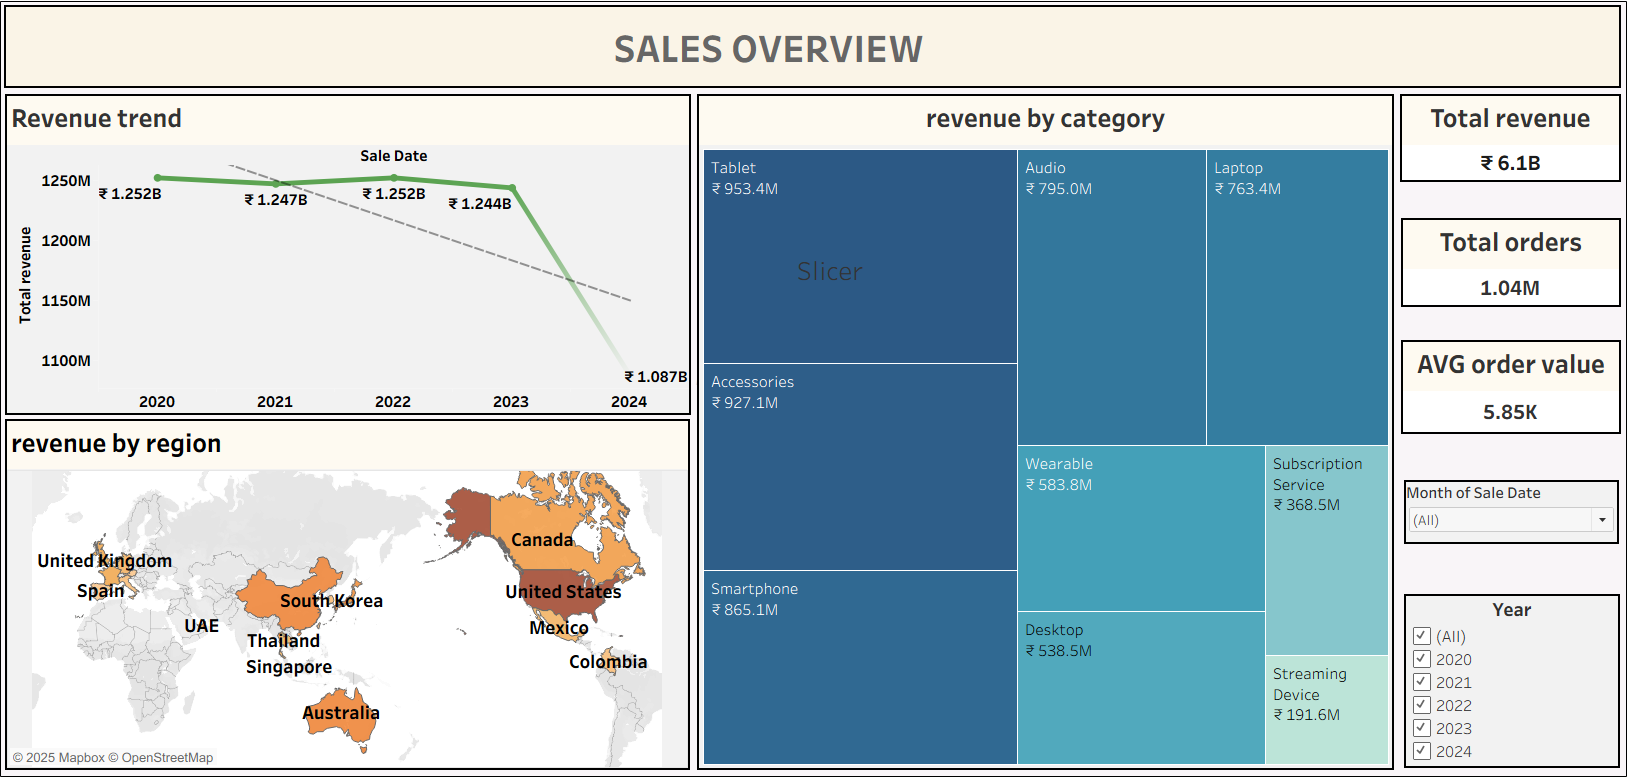

The dashboard page shown, as its layout file describes it:
{"tool":"tableau","page":{"name":"Overview","canvas":[1000,1000],"units":"permille","ordinal":2},"visuals":[{"type":"text","box":[375.4,20.4,193.8,85.4]},{"type":"worksheet","title":"Revenue trend","mark":"Automatic","rows":["Calculation_1114640926342770689"],"cols":["sale_date"],"box":[6.7,123.6,418,408.9]},{"type":"worksheet","title":"revenue by category","mark":"Automatic","box":[428.4,123.6,424.7,861.1]},{"type":"worksheet","title":"Total revenue KPI","mark":"Automatic","box":[856.8,123.6,134.7,112.1]},{"type":"worksheet","title":"Total orders kpi","mark":"Automatic","box":[857.4,281.5,134.1,113.4]},{"type":"worksheet","title":"Slicer","mark":"Automatic","box":[486.9,321,333.3,332.5]},{"type":"worksheet","title":"AVG order value kpi","mark":"Automatic","box":[857.4,436.9,134.1,119.8]},{"type":"worksheet","title":"revenue by region","mark":"Automatic","box":[6.7,537.4,417.6,447.6]},{"type":"filter","title":"Slicer","param":"[federated.07ung0n18wcl6o1au17g21hvnd9n].[mn:sale_date:ok]","box":[859.2,615.3,131,81.5]},{"type":"filter","title":"Slicer","param":"[federated.07ung0n18wcl6o1au17g21hvnd9n].[yr:sale_date:ok]","box":[859.2,760.5,131.6,221.7]}]}

Visuals, with their boxes on the dashboard's canvas, which has no fixed pixel size, in thousandths of its width and height (x1, y1, x2, y2). These are canvas units, not pixel positions in the 1634x781 screenshot, which may show the page scaled, cropped or inside an application window:
text: region(375, 20, 569, 106)
"Revenue trend" worksheet: region(7, 124, 425, 532)
"revenue by category" worksheet: region(428, 124, 853, 985)
"Total revenue KPI" worksheet: region(857, 124, 992, 236)
"Total orders kpi" worksheet: region(857, 282, 992, 395)
"Slicer" worksheet: region(487, 321, 820, 654)
"AVG order value kpi" worksheet: region(857, 437, 992, 557)
"revenue by region" worksheet: region(7, 537, 424, 985)
"Slicer" filter: region(859, 615, 990, 697)
"Slicer" filter: region(859, 760, 991, 982)
